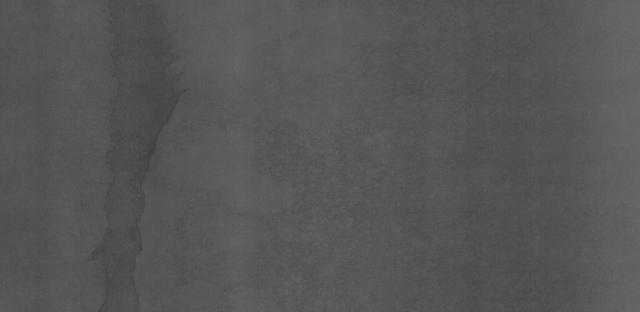water_spot: (92, 8, 205, 299)
